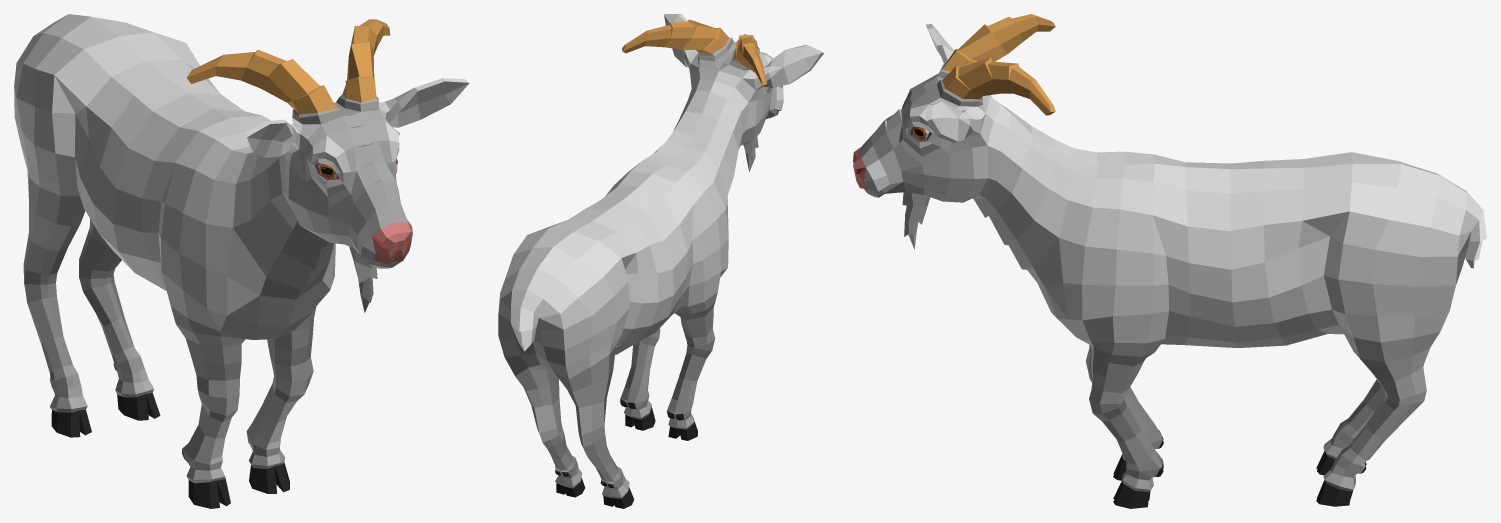
The model's file is goat_fbxkeys.fbx.
The picture shows the model from 3 angles, left to right: view 1: azimuth 30°, elevation 25°; view 2: azimuth 150°, elevation 25°; view 3: azimuth 270°, elevation 25°; orthographic projection. The views are drawn at different scales.
Visible parts, largest first — view 1: Goat_Male_1, Goat_Male_1.001; view 2: Goat_Male_1, Goat_Male_1.001; view 3: Goat_Male_1, Goat_Male_1.001.
Boxes of the visible parts, x1,y1,x2,y2 form: Goat_Male_1: (14,14,335,508); Goat_Male_1.001: (186,19,469,312); Goat_Male_1: (498,129,733,508); Goat_Male_1.001: (622,14,823,175); Goat_Male_1: (1005,140,1486,508); Goat_Male_1.001: (853,14,1055,249).
Size of the model in its own units: 40.74 by 88.98 by 113.
2 materials, 1 textured.
